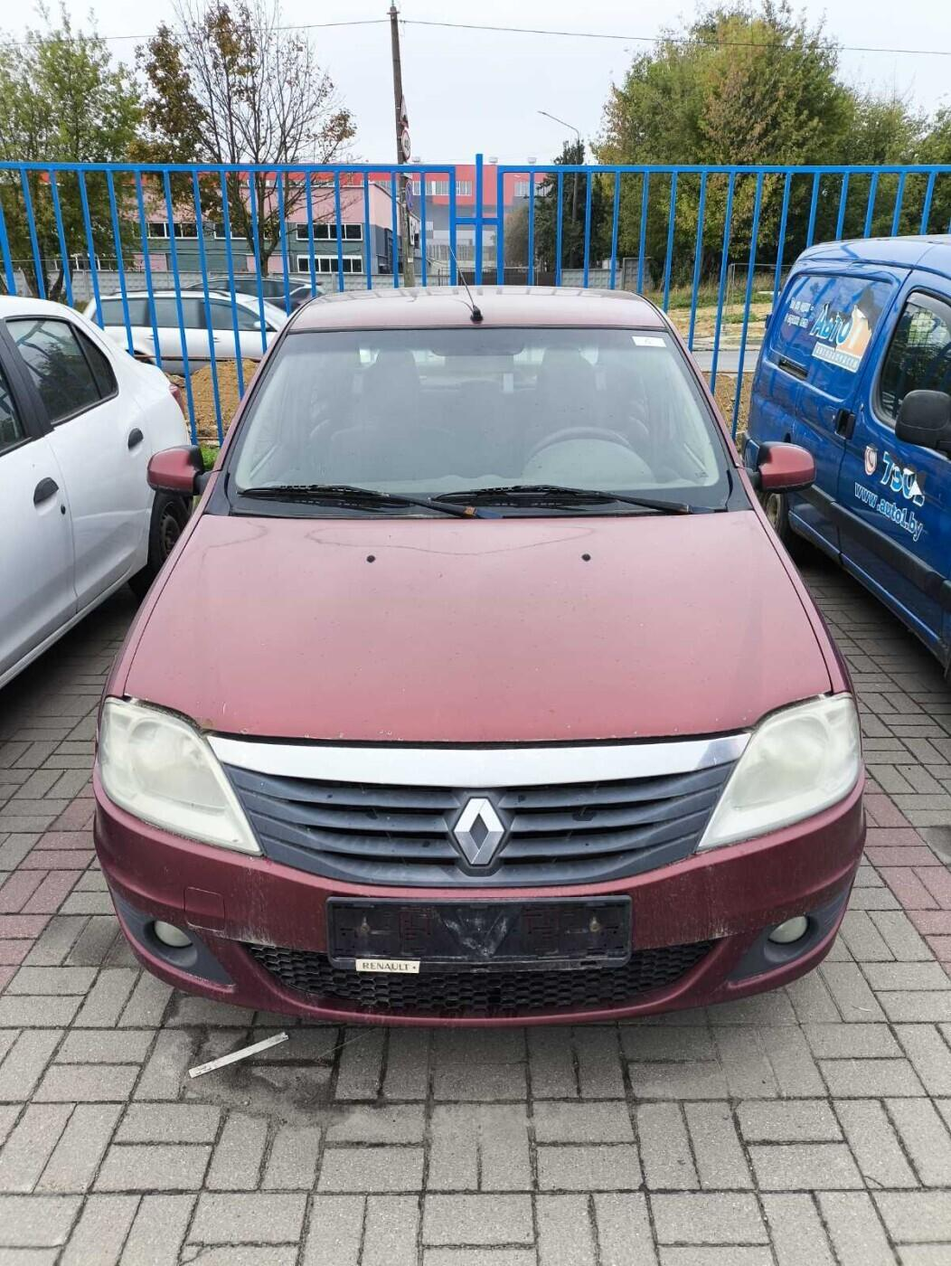Logan_2008-2015: (90, 286, 880, 1020)
